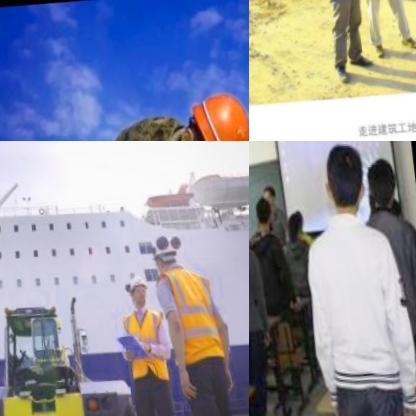head: (312, 141, 364, 209), (365, 150, 401, 207), (282, 201, 306, 241), (249, 190, 272, 228), (257, 179, 275, 202)
helmet: (167, 79, 249, 141), (145, 224, 187, 272), (122, 256, 154, 307)
